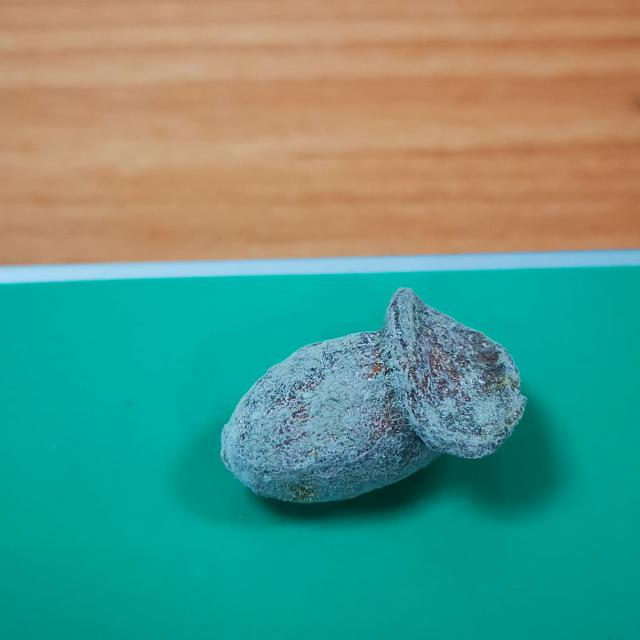Agglomerated_cocoabeans: (117, 242, 639, 562)
